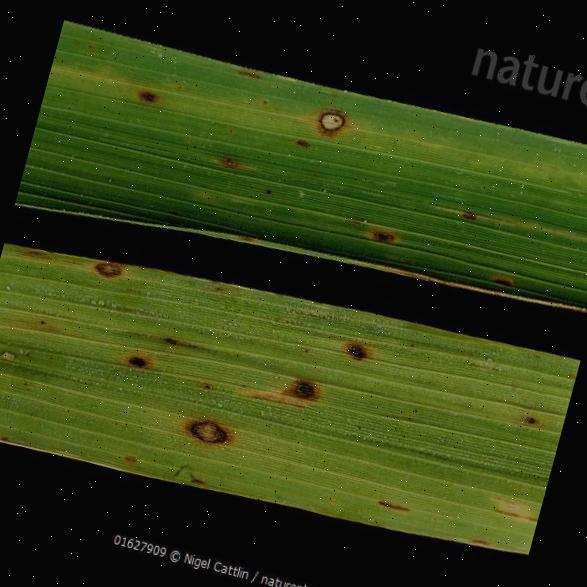Brown_Spot: (238, 346, 344, 426), (168, 402, 258, 464), (352, 201, 421, 257), (326, 329, 388, 385), (103, 332, 168, 382), (77, 241, 139, 287), (503, 395, 551, 447), (204, 144, 268, 182), (310, 93, 360, 140), (123, 68, 169, 118), (368, 490, 424, 527), (110, 445, 156, 472), (482, 266, 524, 290), (450, 199, 482, 229), (228, 62, 270, 84), (0, 335, 27, 366), (289, 128, 318, 150)
